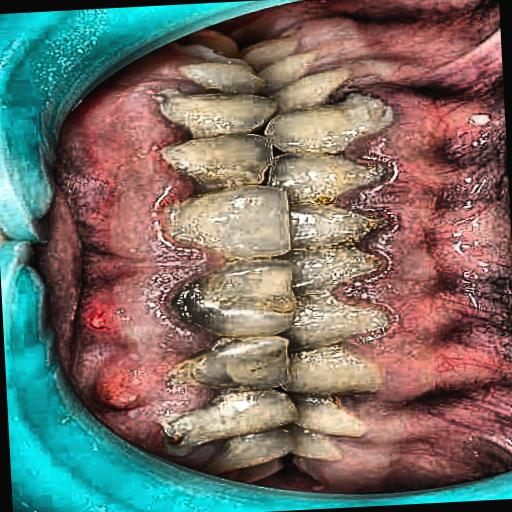Calculus: (89, 17, 420, 506)
